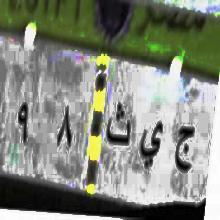8: (54, 103, 74, 157)
9: (16, 95, 31, 148)
jeem: (173, 115, 196, 180)
thaa: (106, 88, 131, 157)
yaa: (139, 108, 164, 174)
